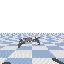drone: (18, 37, 40, 48)
